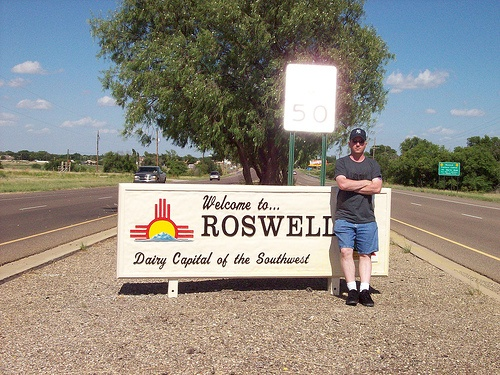head: (349, 128, 368, 157)
person: (330, 125, 381, 309)
